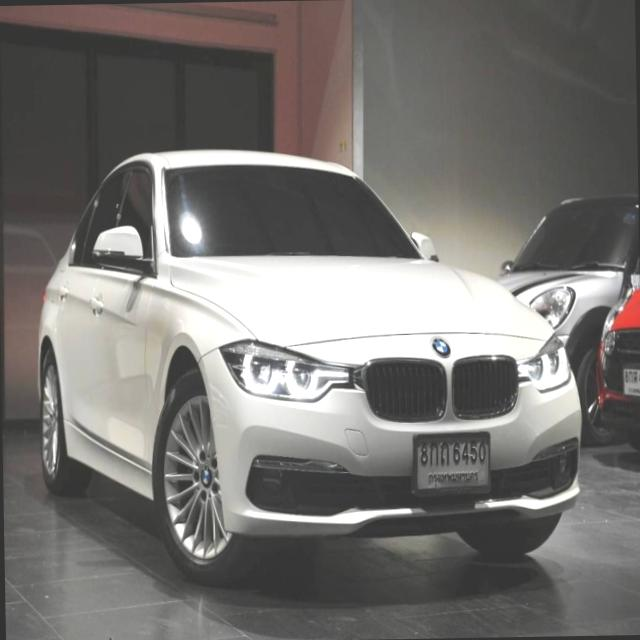license_plate: (412, 427, 490, 492), (620, 362, 640, 400)
